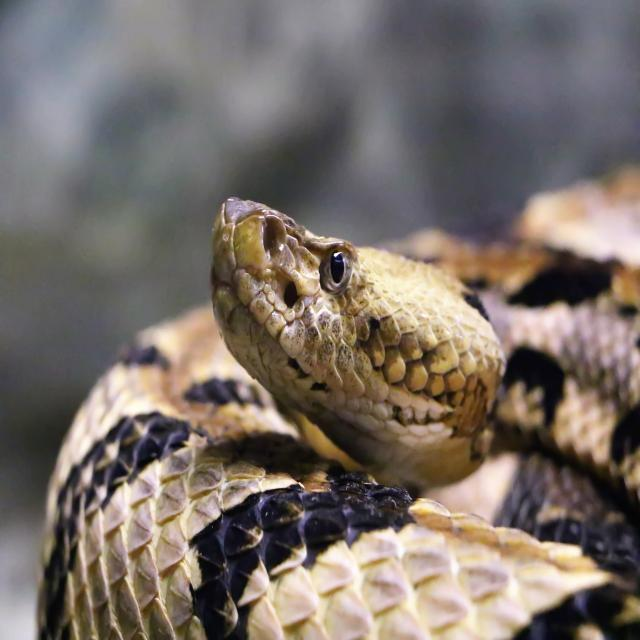Snake: (42, 139, 640, 640)
